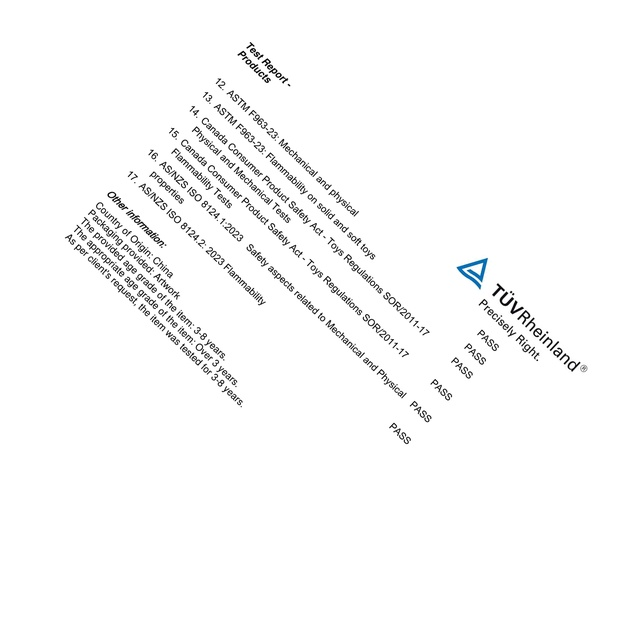tuv_rheinland: (457, 254, 589, 382)
